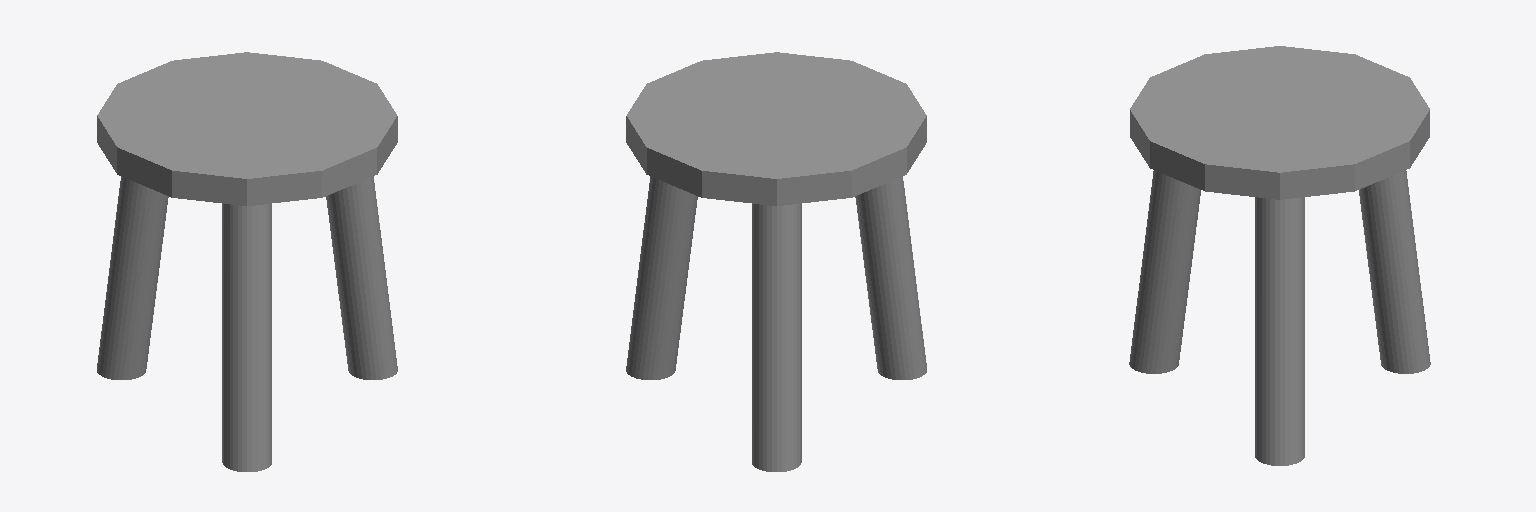
Rendered from stool.obj.
3 renders of one model, left to right at view 1: azimuth 30°, elevation 25°; view 2: azimuth 150°, elevation 25°; view 3: azimuth 270°, elevation 25°, orthographic.
Visible parts, largest first — view 1: Stool_Cylinder; view 2: Stool_Cylinder; view 3: Stool_Cylinder.
Boxes of the visible parts, box(x1,y1,x2,y2) form: Stool_Cylinder: box(97, 52, 397, 471); Stool_Cylinder: box(626, 52, 926, 471); Stool_Cylinder: box(1129, 46, 1430, 465).
Size of the model in its own units: 0.4107 by 0.403 by 0.3863.